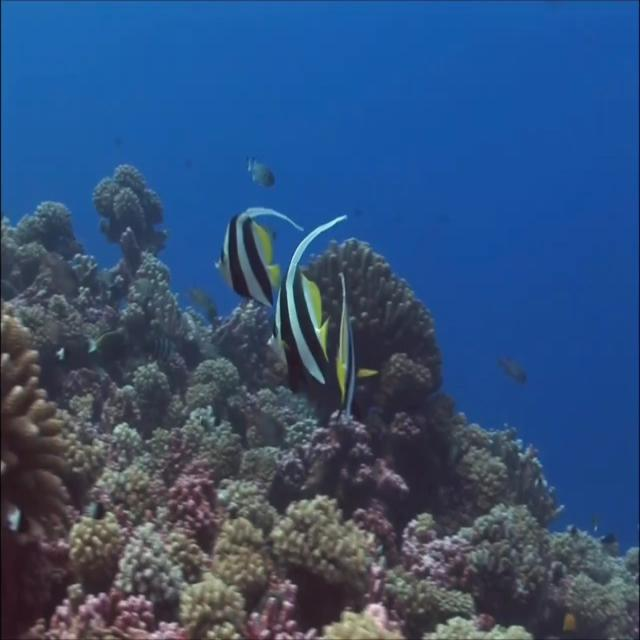Bannerfish: (272, 219, 347, 384), (216, 210, 297, 302), (335, 279, 360, 409)
